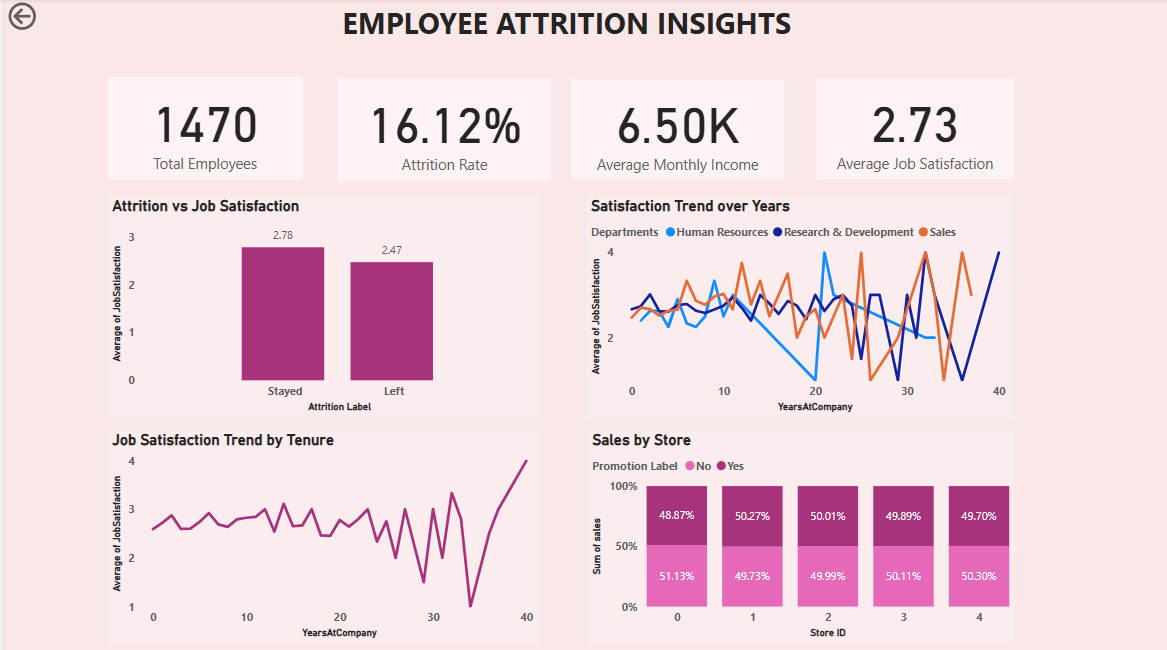

This screenshot's page, from the dashboard's own definition file:
{"tool":"powerbi","page":{"name":"Employee Attrition Insights","canvas":[1280,720],"ordinal":1},"visuals":[{"type":"card","fields":{"Values":["Employee Attrition.Total Employees"]},"box":[113.9,86.4,214.1,112.5],"z":0},{"type":"textbox","box":[366.4,0,511.8,71.4],"z":1000},{"type":"card","fields":{"Values":["Employee Attrition.Attrition Rate"]},"box":[366.4,87.8,234.6,112.5],"z":2000},{"type":"card","fields":{"Values":["Employee Attrition.Average Monthly Income"]},"box":[623,89.2,233.3,109.8],"z":3000},{"type":"card","fields":{"Values":["Employee Attrition.Average Job Satisfaction"]},"box":[891.9,87.8,216.8,111.1],"z":4000},{"type":"actionButton","box":[0,0,100,40],"z":5000},{"type":"clusteredColumnChart","title":"Attrition vs Job Satisfaction","fields":{"Category":["Employee Attrition.Attrition Label"],"Y":["Avg(Employee Attrition.JobSatisfaction)"]},"box":[113.9,218.2,474.8,241.5],"z":5001},{"type":"lineChart","title":"Satisfaction Trend over Years","fields":{"Category":["Employee Attrition.YearsAtCompany"],"Y":["Avg(Employee Attrition.JobSatisfaction)"],"Series":["Employee Attrition.Departments"]},"box":[639.5,218.2,467.9,241.5],"z":5003},{"type":"hundredPercentStackedColumnChart","title":"Sales by Store","fields":{"Category":["Sales Forecasting.Store ID"],"Series":["Sales Forecasting.Promotion Label"],"Y":["Sum(Sales Forecasting.sales)"]},"box":[640.8,474.8,467.9,233.3],"z":5004},{"type":"lineChart","title":"Job Satisfaction Trend by Tenure","fields":{"Category":["Employee Attrition.YearsAtCompany"],"Y":["Avg(Employee Attrition.JobSatisfaction)"]},"box":[113.9,474.8,474.8,233.3],"z":5005}]}

Visuals, with their boxes in screenshot pixels (x1, y1, x2, y2), scaled from the page's 1280x720 canvas onto the 1167x650 screenshot:
card - Employee Attrition.Total Employees: region(104, 78, 299, 180)
textbox: region(334, 0, 801, 64)
card - Employee Attrition.Attrition Rate: region(334, 79, 548, 181)
card - Employee Attrition.Average Monthly Income: region(568, 81, 781, 180)
card - Employee Attrition.Average Job Satisfaction: region(813, 79, 1011, 180)
actionButton: region(0, 0, 91, 36)
"Attrition vs Job Satisfaction" clusteredColumnChart: region(104, 197, 537, 415)
"Satisfaction Trend over Years" lineChart: region(583, 197, 1010, 415)
"Sales by Store" hundredPercentStackedColumnChart: region(584, 429, 1011, 639)
"Job Satisfaction Trend by Tenure" lineChart: region(104, 429, 537, 639)
